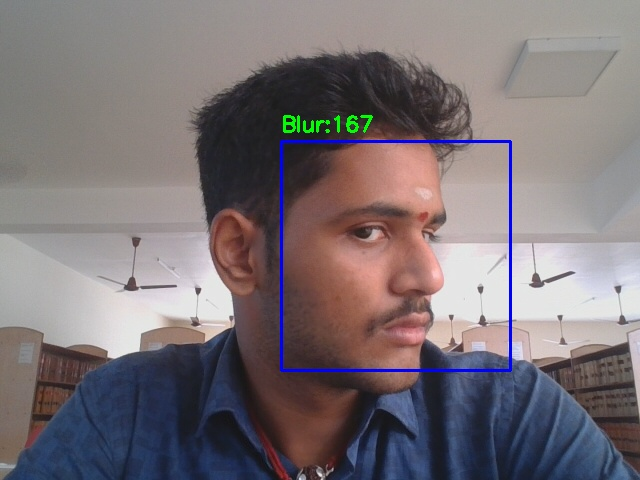real: (281, 141, 510, 370)
